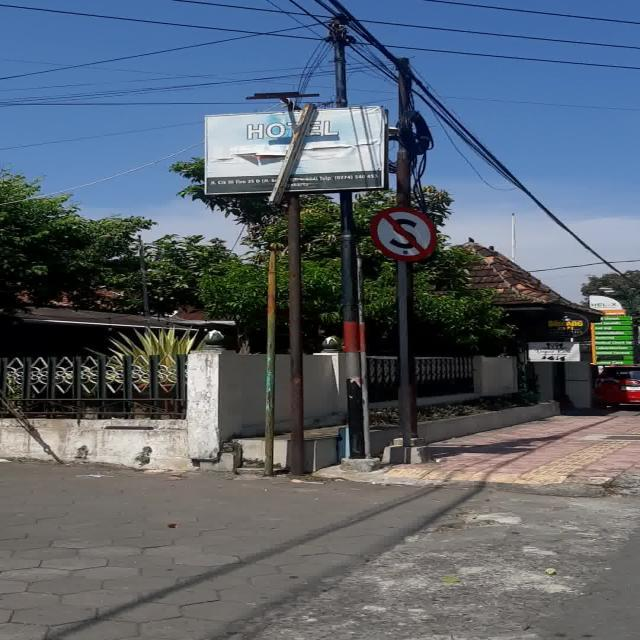Dilarang Berhenti: (369, 208, 436, 262)
